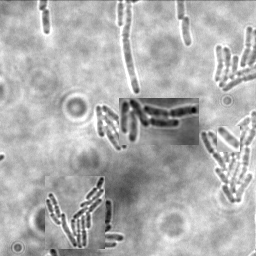Dividing: (123, 1, 142, 95), (41, 8, 52, 35)
Microcolony: (200, 109, 255, 205), (45, 176, 105, 249), (119, 98, 199, 145), (212, 25, 255, 94), (96, 103, 132, 150), (106, 184, 126, 248), (182, 16, 193, 48)
Rod: (217, 126, 240, 152)
